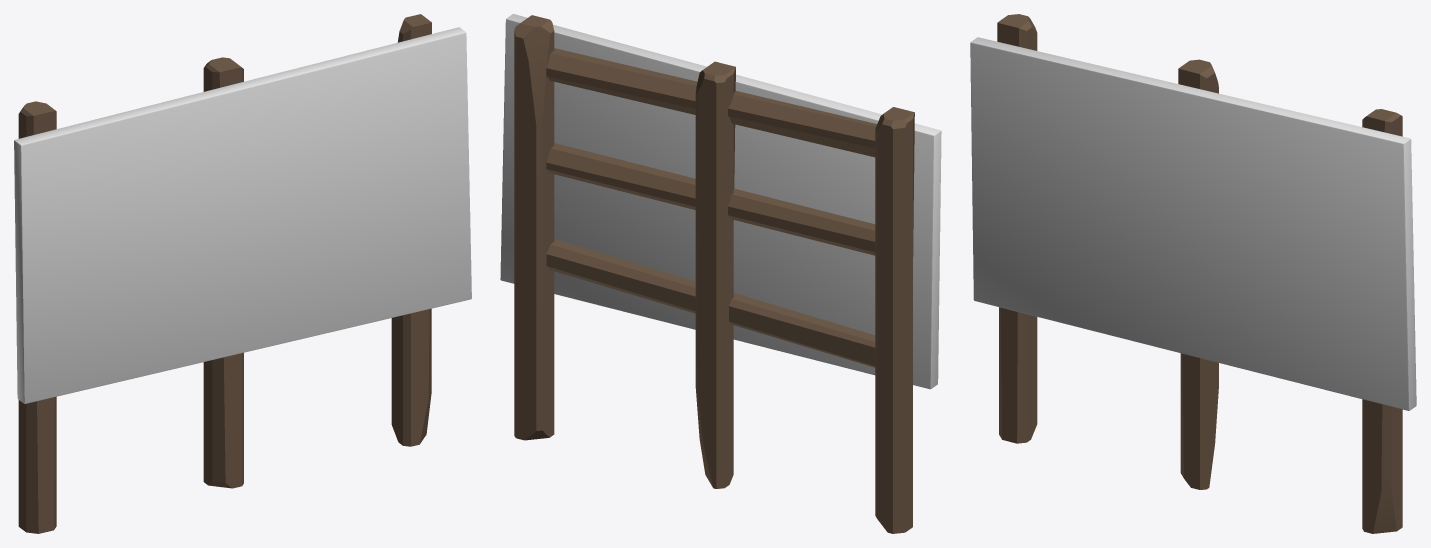
The model's file is Road-Sign-M00A.fbx.
3 views of the same model, side by side, from view 1: azimuth 30°, elevation 25°; view 2: azimuth 150°, elevation 25°; view 3: azimuth 330°, elevation 25° (orthographic). The views are drawn at different scales.
Parts seen in each view (by area): view 1: Road-Sign-M00A; view 2: Road-Sign-M00A; view 3: Road-Sign-M00A.
Part boxes in pixels (bbox=[...]): Road-Sign-M00A: bbox=[14, 14, 471, 533]; Road-Sign-M00A: bbox=[500, 14, 941, 533]; Road-Sign-M00A: bbox=[970, 14, 1416, 533].
Size of the model in its own units: 439 by 393 by 48.62.
